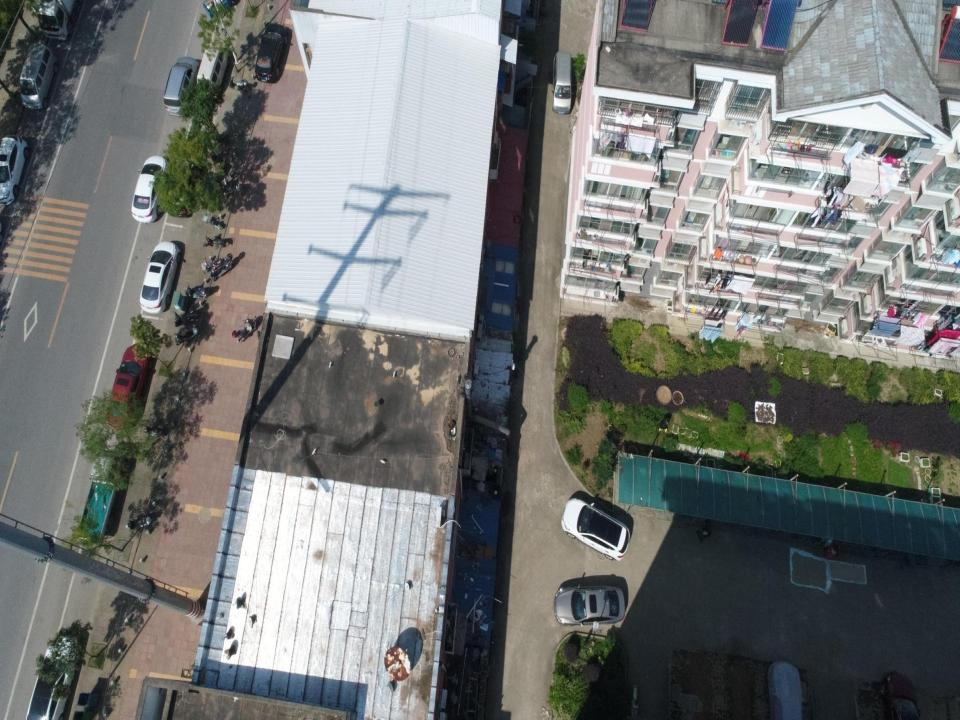car: (561, 493, 631, 560), (26, 632, 78, 720), (105, 342, 152, 430), (552, 582, 625, 629), (139, 241, 182, 313), (131, 154, 170, 224), (766, 660, 804, 719), (879, 670, 922, 719), (254, 23, 287, 85), (0, 133, 28, 206), (36, 1, 70, 37)
truck: (76, 448, 120, 548)
van: (18, 40, 57, 110), (163, 56, 199, 116), (197, 46, 230, 92), (551, 52, 572, 116)
